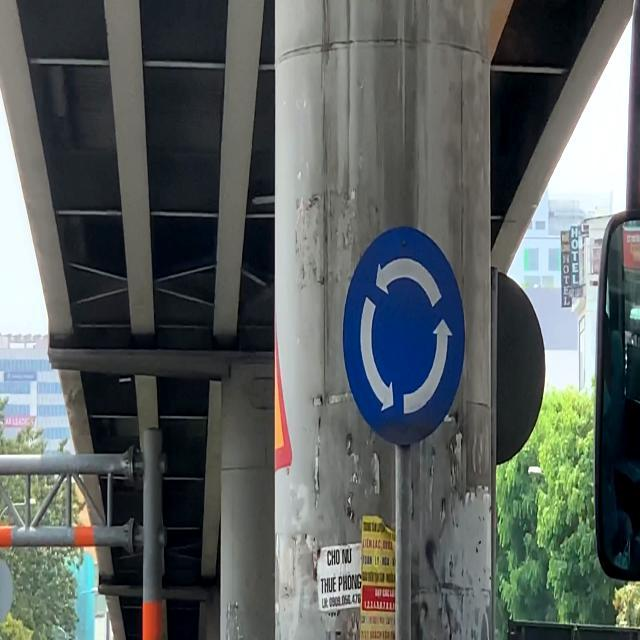Noi giao nhau chay theo vong xuyen: (340, 212, 466, 454)
